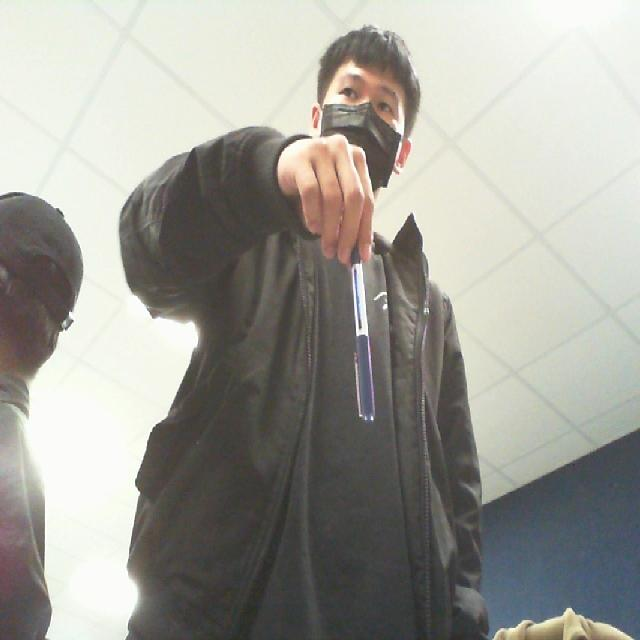Pen: (340, 230, 388, 452)
